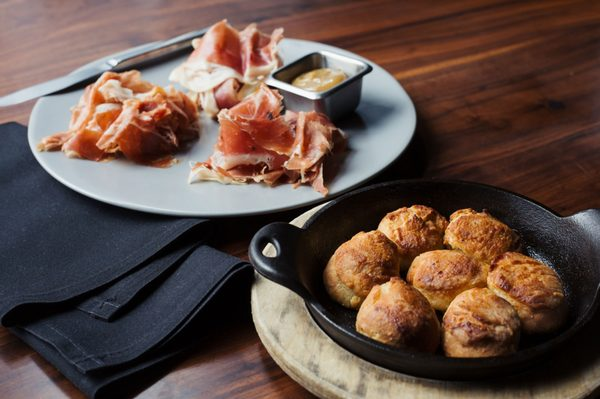sushi: (250, 177, 600, 390), (266, 49, 371, 121)
